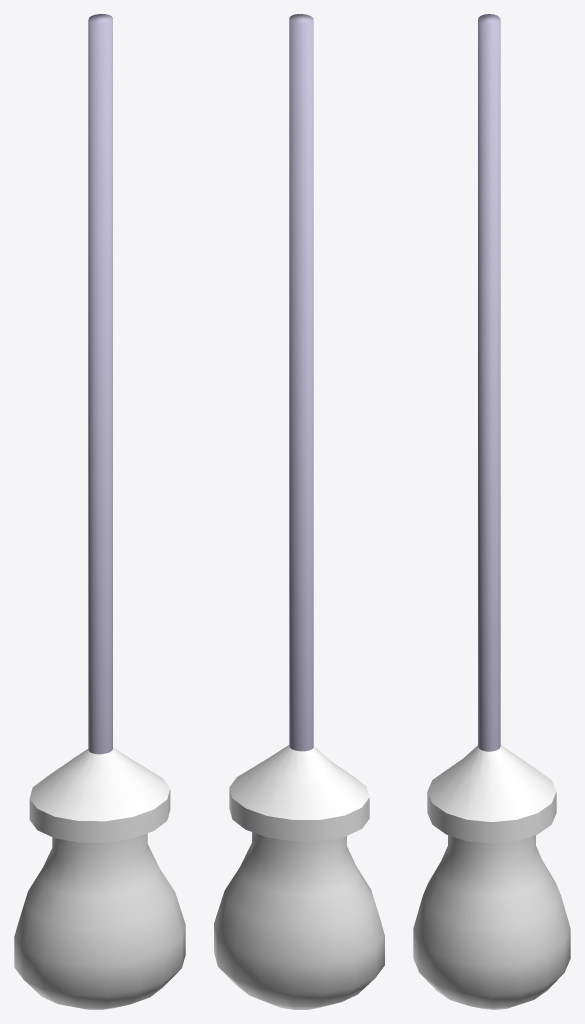
File: Light.fbx
The picture shows the model from 3 angles, left to right: view 1: azimuth 30°, elevation 25°; view 2: azimuth 150°, elevation 25°; view 3: azimuth 270°, elevation 25°; orthographic projection.
Parts seen in each view (by area): view 1: Light; view 2: Light; view 3: Light.
Part boxes in pixels (bbox=[...]): Light: bbox=[14, 14, 185, 1009]; Light: bbox=[214, 14, 384, 1009]; Light: bbox=[413, 14, 570, 1009].
Bounding box in the file's own units: 19.58 × 120 × 17.53.
